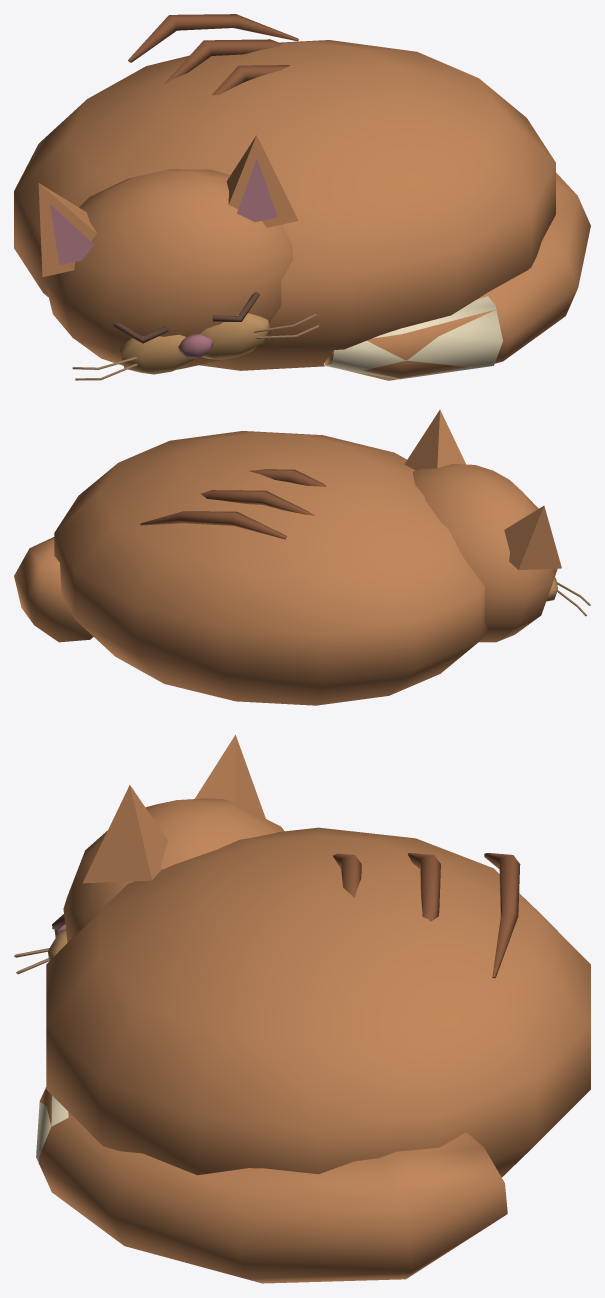
File: cat_sleeping.glb
3 renders of one model, top to bottom at view 1: azimuth 30°, elevation 25°; view 2: azimuth 150°, elevation 25°; view 3: azimuth 270°, elevation 25°, orthographic. The views are drawn at different scales.
Visible parts, largest first — view 1: cat_sleeping; view 2: cat_sleeping; view 3: cat_sleeping.
Part boxes in pixels (left/top/right/bottom): cat_sleeping: left=14, top=14, right=590, bottom=380; cat_sleeping: left=14, top=409, right=590, bottom=705; cat_sleeping: left=14, top=735, right=590, bottom=1283.
Bounding box in the file's own units: 0.42 × 0.2 × 0.32.
